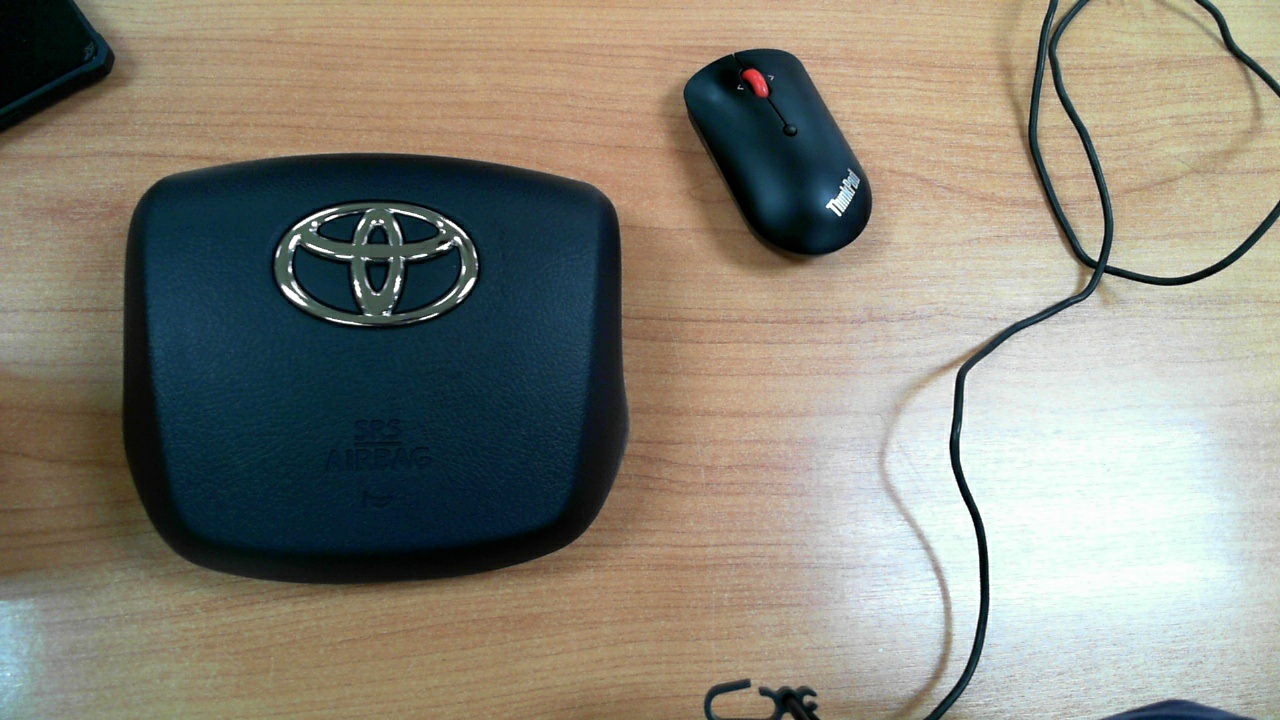Airbag: (83, 126, 653, 593)
